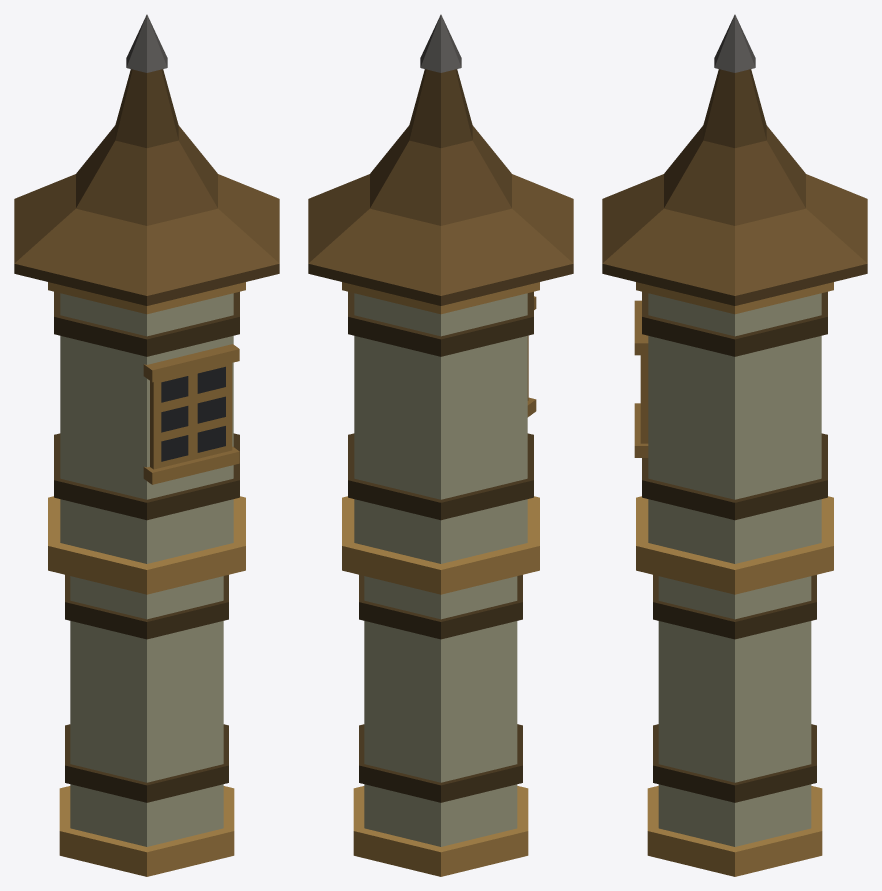
File: SF_Bld_HouseAdd_Tower_01.fbx
3 renders of one model, left to right at view 1: azimuth 30°, elevation 25°; view 2: azimuth 150°, elevation 25°; view 3: azimuth 270°, elevation 25°, orthographic.
Visible parts, largest first — view 1: SF_Bld_HouseAdd_Tower_01; view 2: SF_Bld_HouseAdd_Tower_01; view 3: SF_Bld_HouseAdd_Tower_01.
Part boxes in pixels (left/top/right/bottom): SF_Bld_HouseAdd_Tower_01: left=14, top=14, right=279, bottom=876; SF_Bld_HouseAdd_Tower_01: left=308, top=14, right=573, bottom=876; SF_Bld_HouseAdd_Tower_01: left=602, top=14, right=867, bottom=876.
Bounding box in the file's own units: 4.5 × 13.3 × 3.9.
